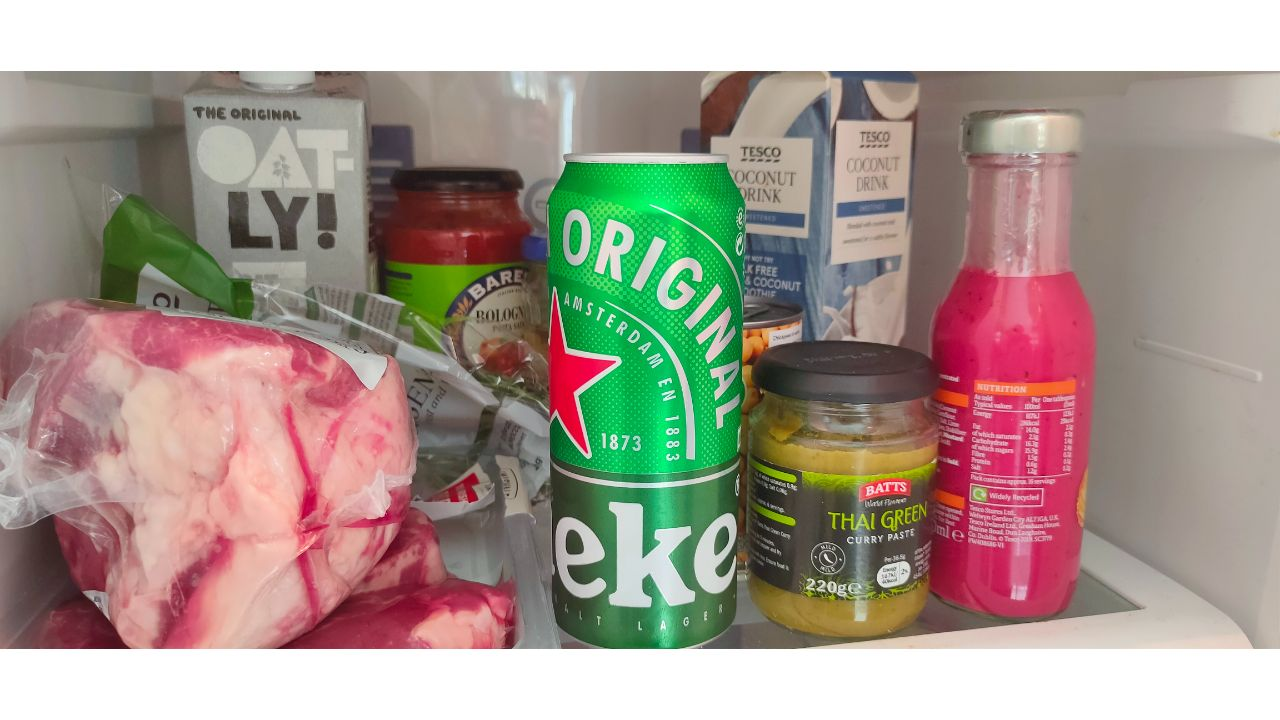Can: (542, 156, 744, 651)
